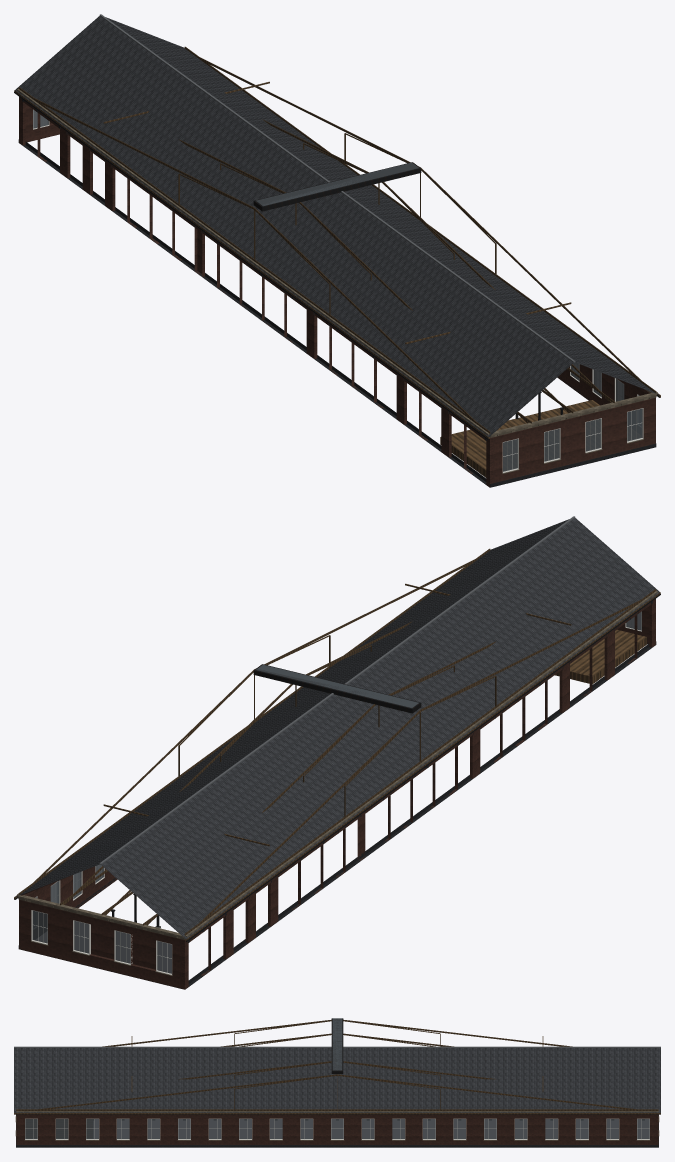
Rendered from A_dock_shed.glb.
3 renders of one model, top to bottom at view 1: azimuth 30°, elevation 25°; view 2: azimuth 150°, elevation 25°; view 3: azimuth 270°, elevation 25°, orthographic. The views are drawn at different scales.
Visible parts, largest first — view 1: A_dock_shed; view 2: A_dock_shed; view 3: A_dock_shed.
Boxes of the visible parts, box(x1,y1,x2,y2) form: A_dock_shed: box(14, 14, 660, 487); A_dock_shed: box(14, 516, 660, 989); A_dock_shed: box(14, 1018, 660, 1147).
Bounding box in the file's own units: 24.99 × 15.3 × 119.
12 materials, 8 textured.
